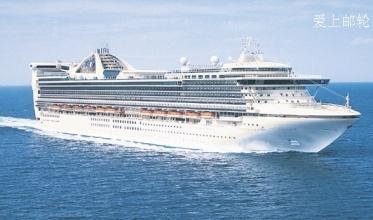youlun: (29, 50, 363, 154)
